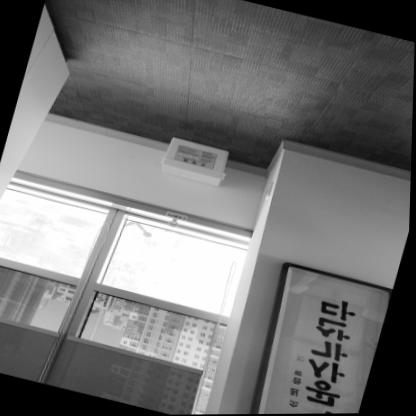DDL: (160, 136, 232, 189)
